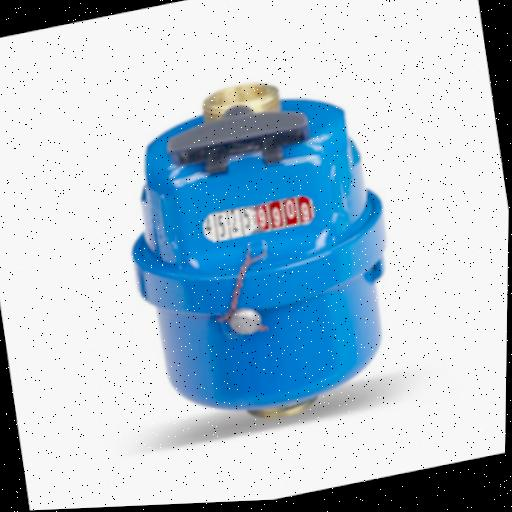0: (282, 196, 298, 227)
2: (227, 207, 243, 239)
4: (200, 213, 218, 243)
5: (240, 204, 257, 236), (214, 210, 230, 239)
9: (297, 193, 317, 224), (254, 202, 271, 233), (268, 200, 284, 229)
border_water_meter_number: (200, 192, 317, 243)
